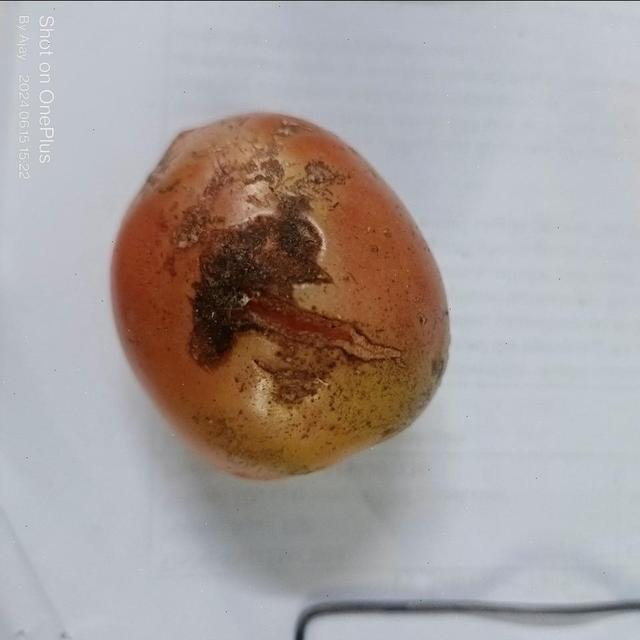Cracking Fruit: (129, 111, 333, 316)
